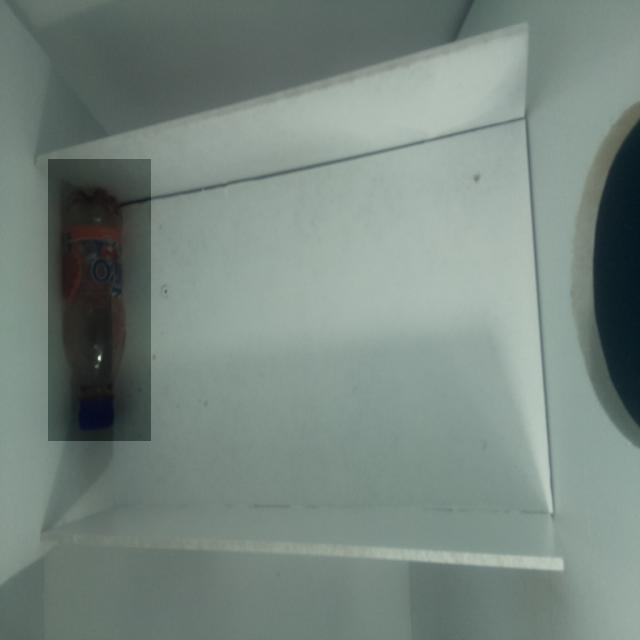BIODEGRADABLE: (48, 159, 151, 441)
